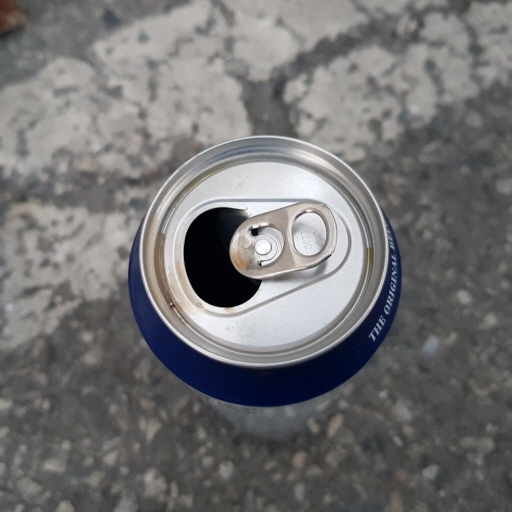Metal_0: (124, 132, 402, 442)
